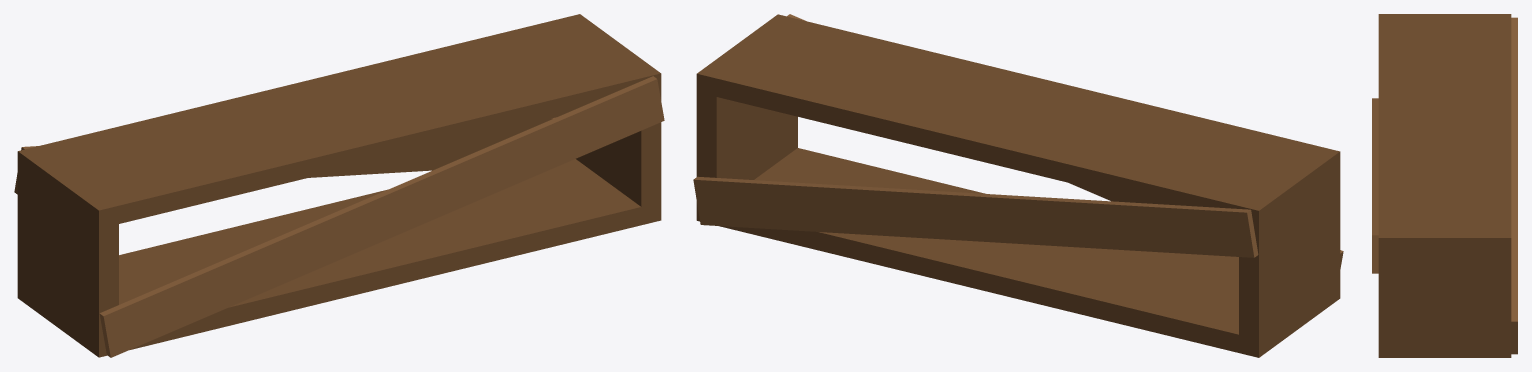
Rendered from PlateformBois_1x4.fbx.
3 renders of one model, left to right at view 1: azimuth 30°, elevation 25°; view 2: azimuth 150°, elevation 25°; view 3: azimuth 270°, elevation 25°, orthographic. The views are drawn at different scales.
Visible parts, largest first — view 1: pCube1, pCube2, pasted__pCube2; view 2: pCube1, pasted__pCube2, pCube2; view 3: pCube1, pasted__pCube2, pCube2.
Boxes of the visible parts, x1,y1,x2,y2 form: pCube1: [17, 14, 661, 357]; pCube2: [99, 76, 664, 357]; pasted__pCube2: [14, 117, 556, 194]; pCube1: [696, 14, 1340, 357]; pasted__pCube2: [693, 176, 1258, 257]; pCube2: [787, 14, 1343, 268]; pCube1: [1378, 14, 1511, 357]; pasted__pCube2: [1511, 17, 1517, 354]; pCube2: [1372, 98, 1378, 273].
Size of the model in its own units: 4 by 1 by 1.1.
